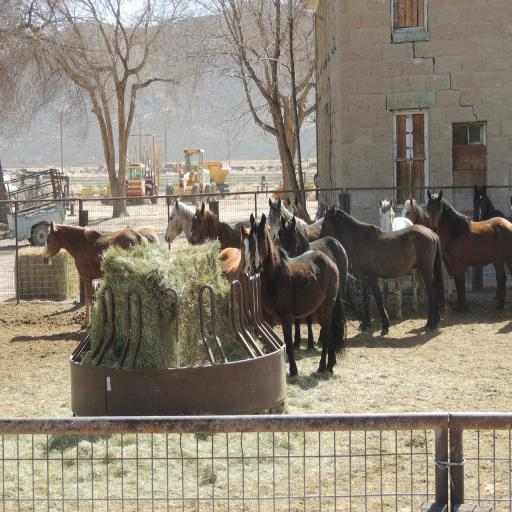horse: (165, 182, 512, 380), (42, 217, 149, 330)
